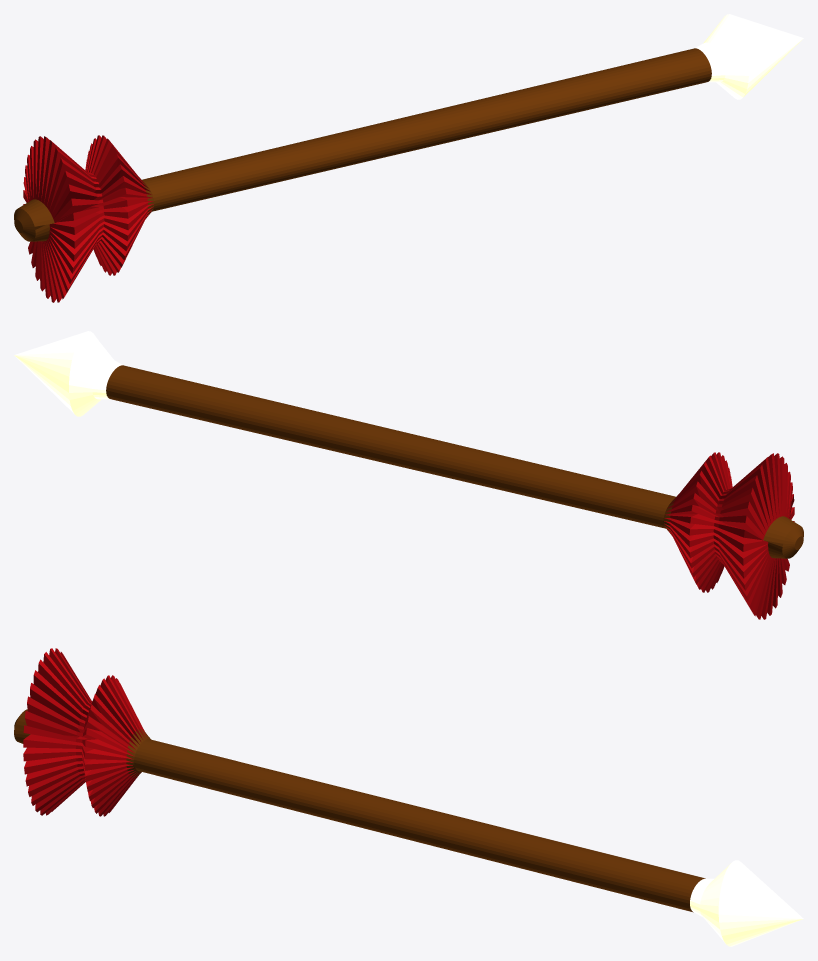
Rendered from arrow3.fbx.
3 views of the same model, one above another, from view 1: azimuth 30°, elevation 25°; view 2: azimuth 150°, elevation 25°; view 3: azimuth 330°, elevation 25° (orthographic).
Visible parts, largest first — view 1: Arrow1.002; view 2: Arrow1.002; view 3: Arrow1.002.
Part boxes in pixels (x1=…): Arrow1.002: x1=14, y1=14, x2=803, y2=302; Arrow1.002: x1=14, y1=331, x2=803, y2=619; Arrow1.002: x1=14, y1=648, x2=803, y2=946.
Bounding box in the file's own units: 248 × 49.02 × 28.09.
